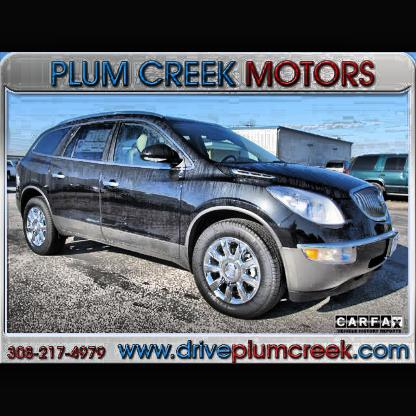Buick Enclave SUV 2012: (18, 112, 400, 320)
